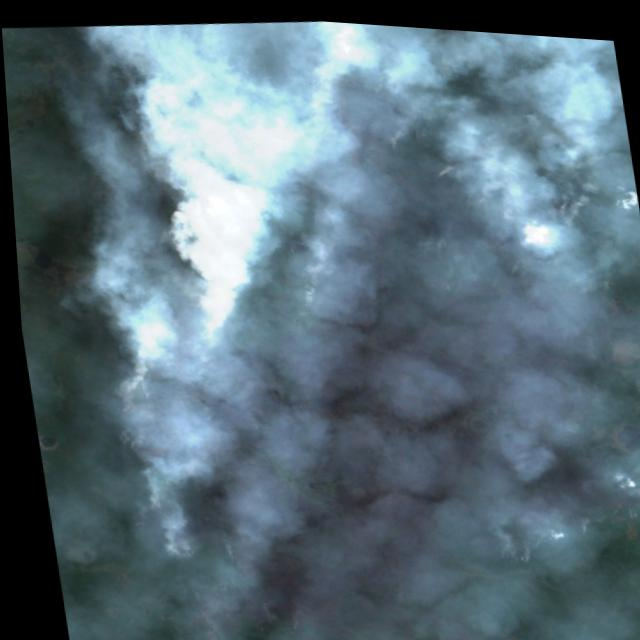fire: (43, 27, 640, 640)
